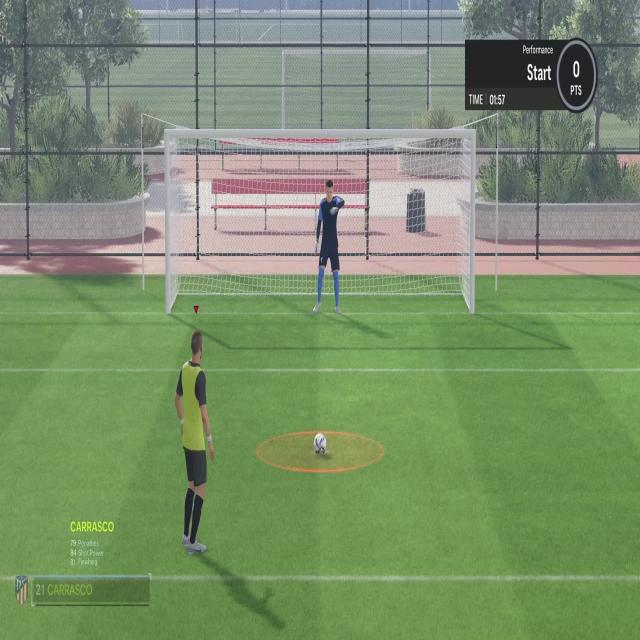circle: (257, 424, 385, 474)
football: (311, 432, 330, 456)
goal-bottom-left: (170, 226, 270, 314)
goal-bottom-right: (370, 226, 470, 314)
goal-middle-down: (270, 226, 370, 314)
goal-middle-up: (270, 138, 370, 226)
goal-top-left: (170, 138, 270, 226)
goal-top-right: (370, 138, 470, 226)
goalkeeper: (307, 178, 346, 316)
player: (173, 324, 216, 562)
